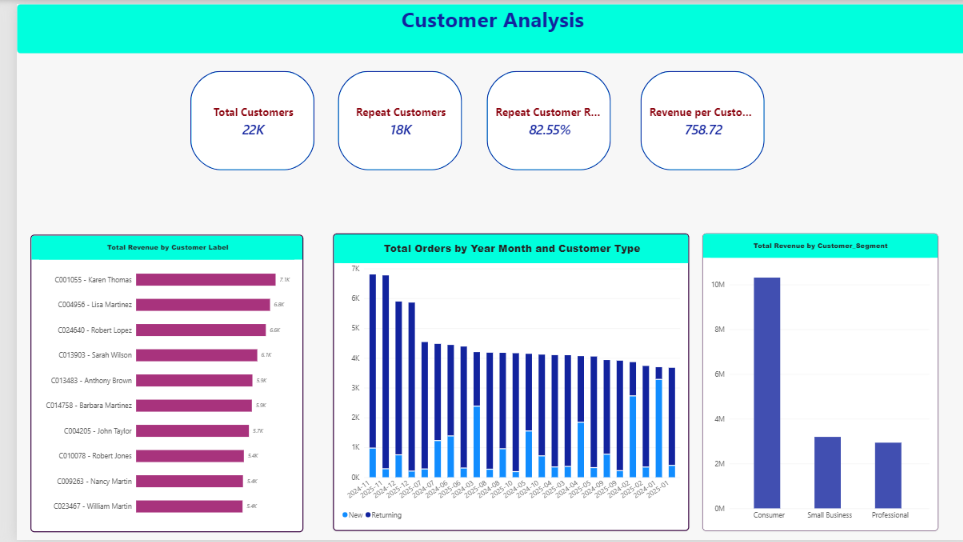

Layout of this report page (visuals, bound fields, positions):
{"tool":"powerbi","page":{"name":"Customer Analysis","canvas":[1920,1080],"ordinal":2},"visuals":[{"type":"cardVisual","fields":{"Data":["Orders.Total Customers"]},"box":[349.4,135.5,250,200],"z":0},{"type":"cardVisual","fields":{"Data":["Customers.Revenue per Customer"]},"box":[1256.9,135.5,250,200],"z":1000},{"type":"cardVisual","fields":{"Data":["Customers.Repeat Customer Rate %"]},"box":[946.9,135.5,250,200],"z":2000},{"type":"cardVisual","fields":{"Data":["Customers.Repeat Customers"]},"box":[646.9,135.5,250,200],"z":3000},{"type":"columnChart","fields":{"Category":["Customers.Customer_Segment"],"Y":["Orders.Total Revenue"]},"box":[1382.5,462.5,475,600],"z":4000},{"type":"barChart","fields":{"Category":["Customers.Customer Label"],"Y":["Orders.Total Revenue"]},"box":[27.5,465,550,600],"z":5000},{"type":"columnChart","fields":{"Category":["Date.Year Month"],"Series":["Orders.Customer Type"],"Y":["Orders.Total Orders"]},"box":[638.3,463.3,718.3,600],"z":7000},{"type":"textbox","box":[0,0,1920,100],"z":7001}]}

Visuals, with their boxes in screenshot pixels (x1, y1, x2, y2), scaled from the page's 1920x1080 canvas onto the 963x542 screenshot:
cardVisual - Orders.Total Customers: pyautogui.locateOnScreen(175, 68, 301, 168)
cardVisual - Customers.Revenue per Customer: pyautogui.locateOnScreen(630, 68, 756, 168)
cardVisual - Customers.Repeat Customer Rate %: pyautogui.locateOnScreen(475, 68, 600, 168)
cardVisual - Customers.Repeat Customers: pyautogui.locateOnScreen(324, 68, 450, 168)
columnChart - Customers.Customer_Segment x Orders.Total Revenue: pyautogui.locateOnScreen(693, 232, 932, 533)
barChart - Customers.Customer Label x Orders.Total Revenue: pyautogui.locateOnScreen(14, 233, 290, 534)
columnChart - Date.Year Month x Orders.Customer Type: pyautogui.locateOnScreen(320, 233, 680, 534)
textbox: pyautogui.locateOnScreen(0, 0, 962, 50)
